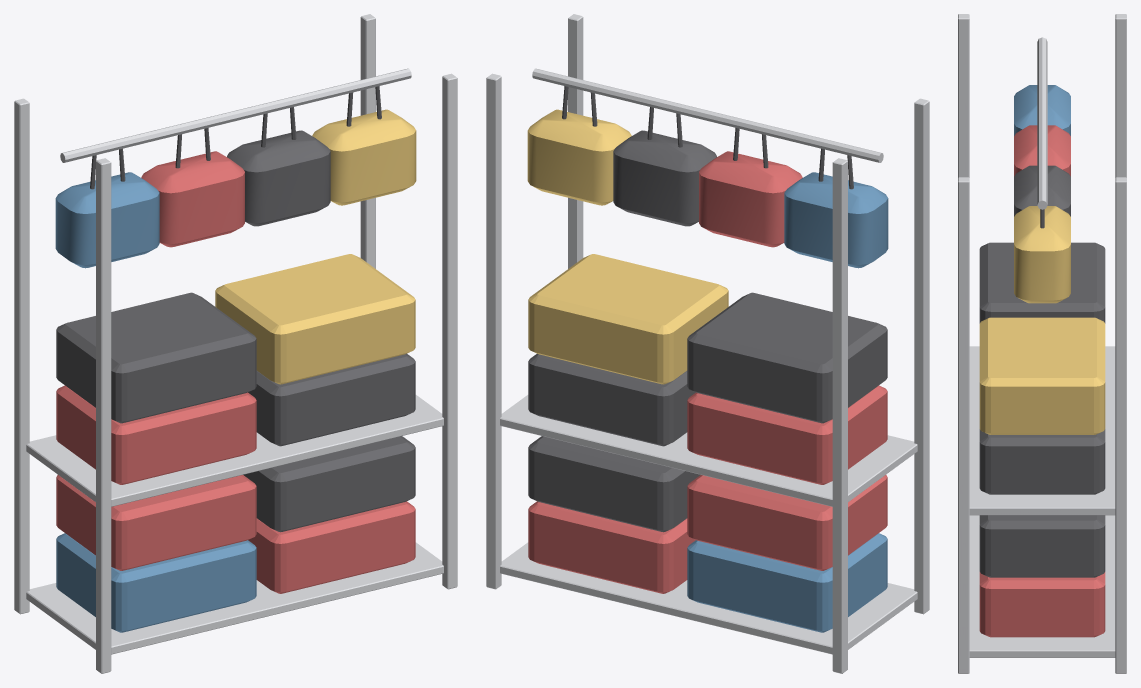
3 views of the same model, side by side, from view 1: azimuth 30°, elevation 25°; view 2: azimuth 150°, elevation 25°; view 3: azimuth 270°, elevation 25° (orthographic). The views are drawn at different scales.
Visible parts, largest first — view 1: luggage-and-bag-rack; view 2: luggage-and-bag-rack; view 3: luggage-and-bag-rack.
Part boxes in pixels (x1=…): luggage-and-bag-rack: x1=14, y1=14, x2=457, y2=673; luggage-and-bag-rack: x1=486, y1=14, x2=929, y2=673; luggage-and-bag-rack: x1=958, y1=14, x2=1126, y2=673.
Bounding box in the file's own units: 1.39 × 1.9 × 0.5901.
